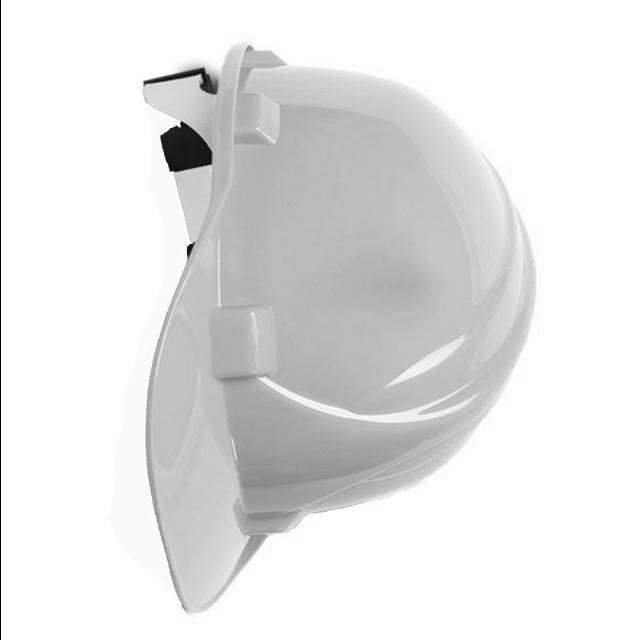construction helmet: (141, 42, 535, 616)
